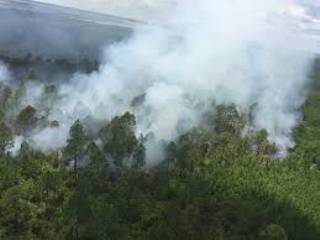smoke: (11, 78, 117, 165), (134, 67, 198, 167), (238, 74, 306, 161)
